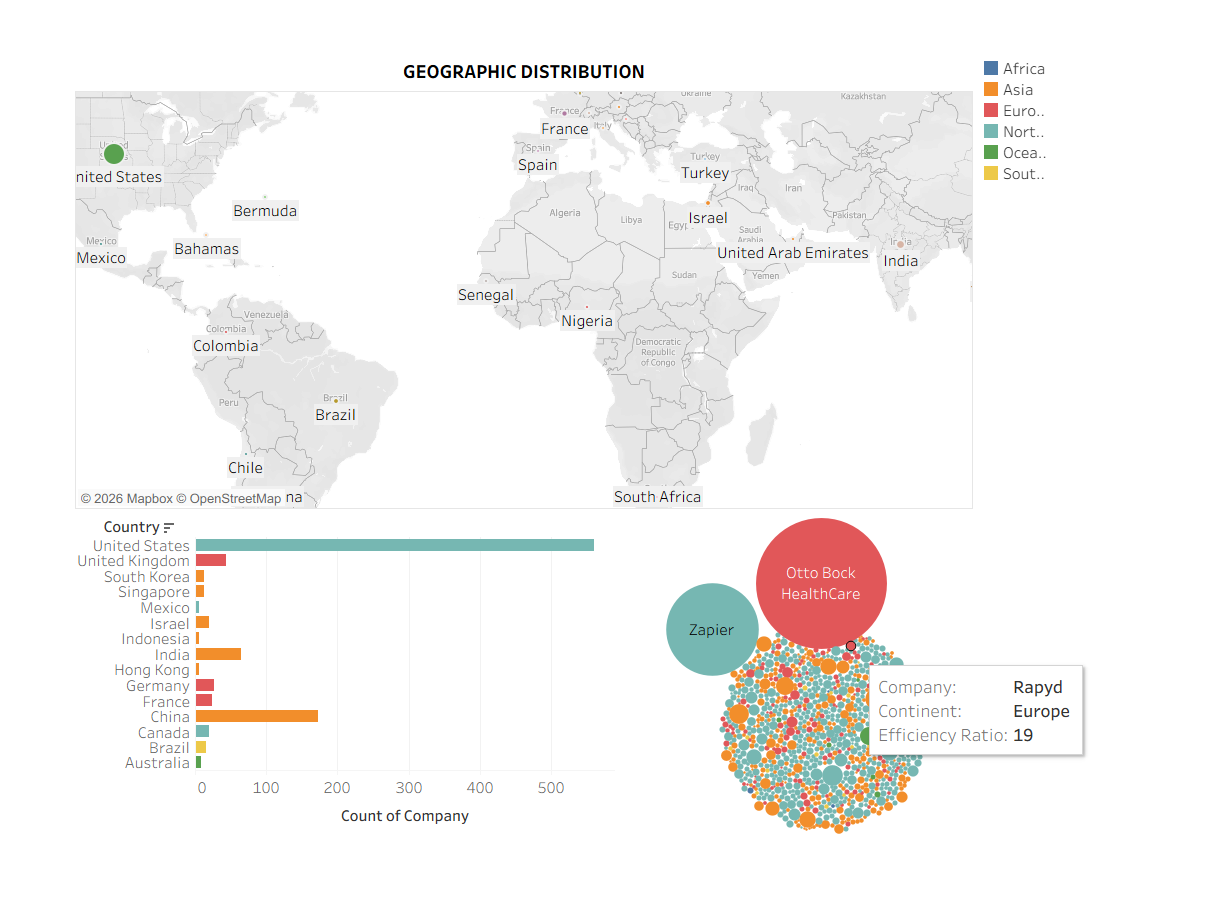

What the dashboard file says about the page in this screenshot:
{"tool":"tableau","page":{"name":"DASHBOARD 2 - GEOGRAPHIC ANALYSIS","canvas":[1000,800],"ordinal":0},"visuals":[{"type":"text","box":[8,8,824,32]},{"type":"legend","title":"Geographic Distribution","param":"[federated.1yvt8aw0rmo4hr16hdg0i03trww2].[cnt:Company:qk]","box":[832,8,160,114]},{"type":"worksheet","title":"Geographic Distribution","mark":"Automatic","box":[8,40,824,752]},{"type":"legend","title":"Geographic Distribution","param":"[federated.1yvt8aw0rmo4hr16hdg0i03trww2].[none:Country:nk]","box":[832,122,160,670]}]}

Visuals, with their boxes on the page's 1000x800 design canvas (x1, y1, x2, y2). These are canvas units, not pixel positions in the 1231x908 screenshot, which may show the page scaled, cropped or inside an application window:
text: {"x1": 8, "y1": 8, "x2": 832, "y2": 40}
"Geographic Distribution" legend: {"x1": 832, "y1": 8, "x2": 992, "y2": 122}
"Geographic Distribution" worksheet: {"x1": 8, "y1": 40, "x2": 832, "y2": 792}
"Geographic Distribution" legend: {"x1": 832, "y1": 122, "x2": 992, "y2": 792}
